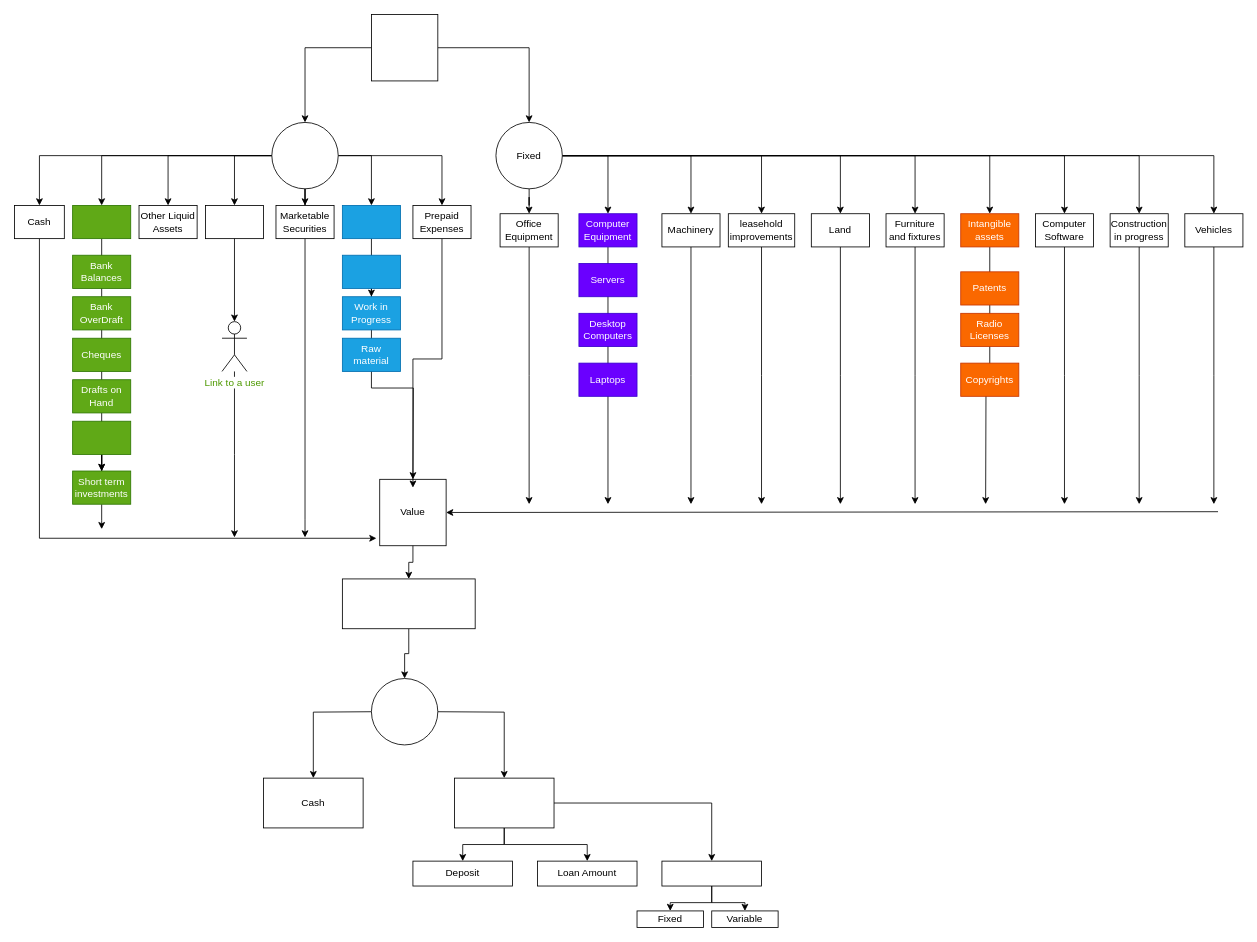
Some shapes in this 1257 by 942 pixel diagram are drawn without their labels. Here are the shapes that lost their labels. From the top down, the centre of each, then its label:
pixel 404 47: Asset
pixel 304 155: Current
pixel 101 222: Cash Equivalent
pixel 234 222: Accounts Receivalbe
pixel 371 222: Stock or Inventory
pixel 371 271: Finished Goods
pixel 101 437: Demand Deposit
pixel 408 603: Appreciation/Depreciation
pixel 404 711: Transaction Type
pixel 504 802: Credit
pixel 711 873: Interest
